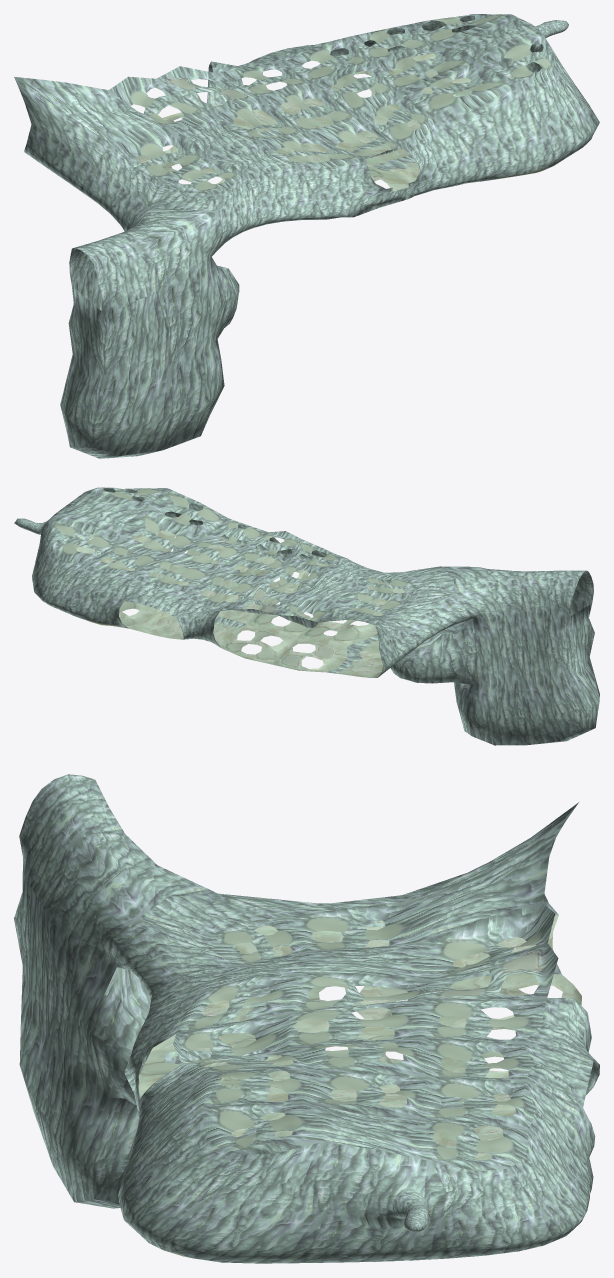
File: TROLLHOLE02_PS-MAINCAVE01.obj
The picture shows the model from 3 angles, top to bottom: view 1: azimuth 30°, elevation 25°; view 2: azimuth 150°, elevation 25°; view 3: azimuth 270°, elevation 25°; orthographic projection. The views are drawn at different scales.
Visible parts, largest first — view 1: Ps-MainCave01; view 2: Ps-MainCave01; view 3: Ps-MainCave01.
Boxes of the visible parts, x1=… form: Ps-MainCave01: x1=14, y1=14, x2=599, y2=458; Ps-MainCave01: x1=14, y1=487, x2=599, y2=745; Ps-MainCave01: x1=14, y1=774, x2=599, y2=1263.
Bounding box in the file's own units: 8437 × 3395 × 4484.
